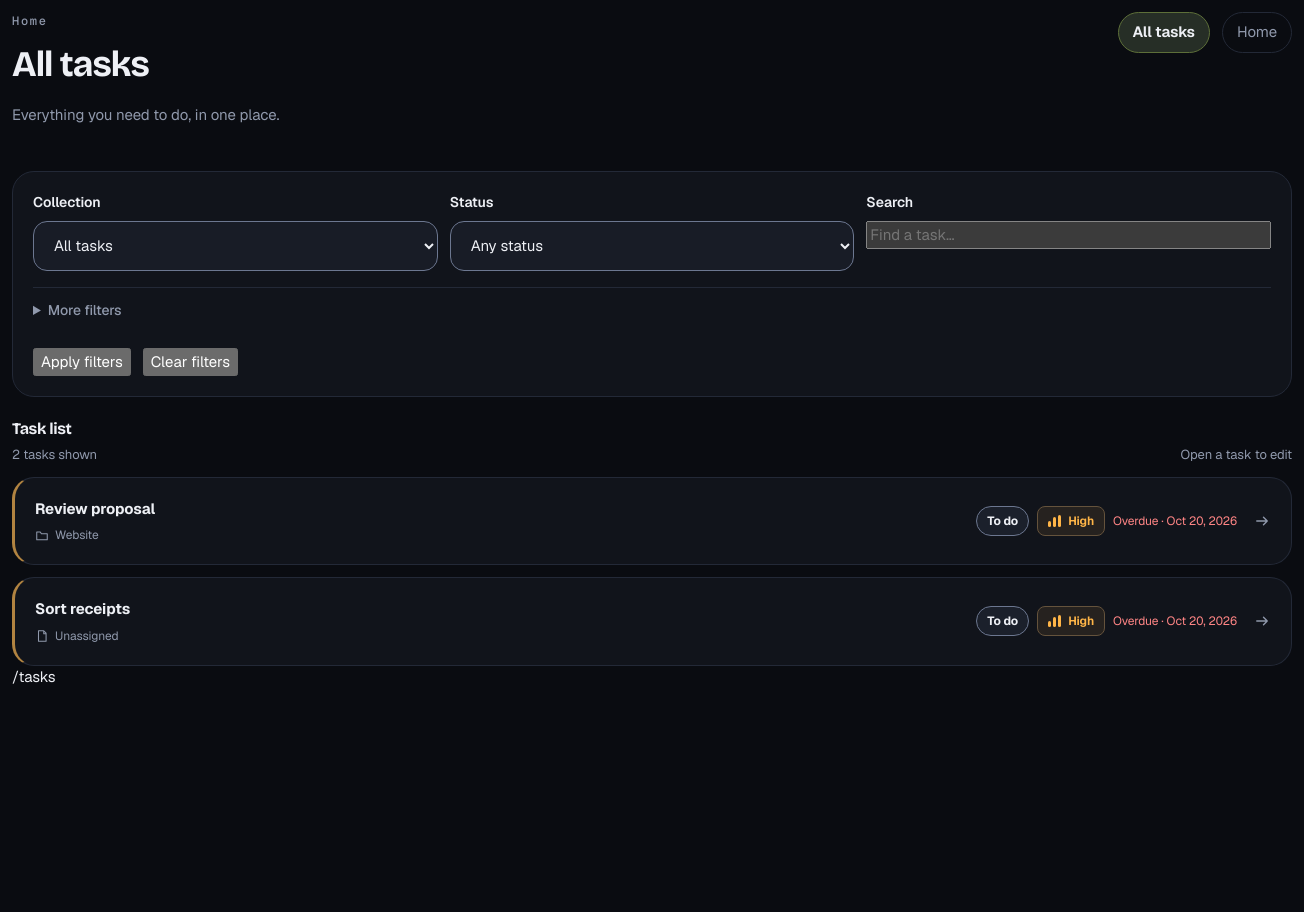
AllTasksPage › keeps unassigned tasks in All tasks and leaves Inbox available as a collection filter
This screenshot has width=1304, height=912.
Expected: the link "Sort receipts Unassigned To do High Overdue · Oct 20, 2026" is shown, [12, 577, 1292, 666]
Expected: the link "Inbox" is not shown
Select "Inbox" in the dropdown labelled "Collection" at (235, 246), box [33, 220, 438, 270]
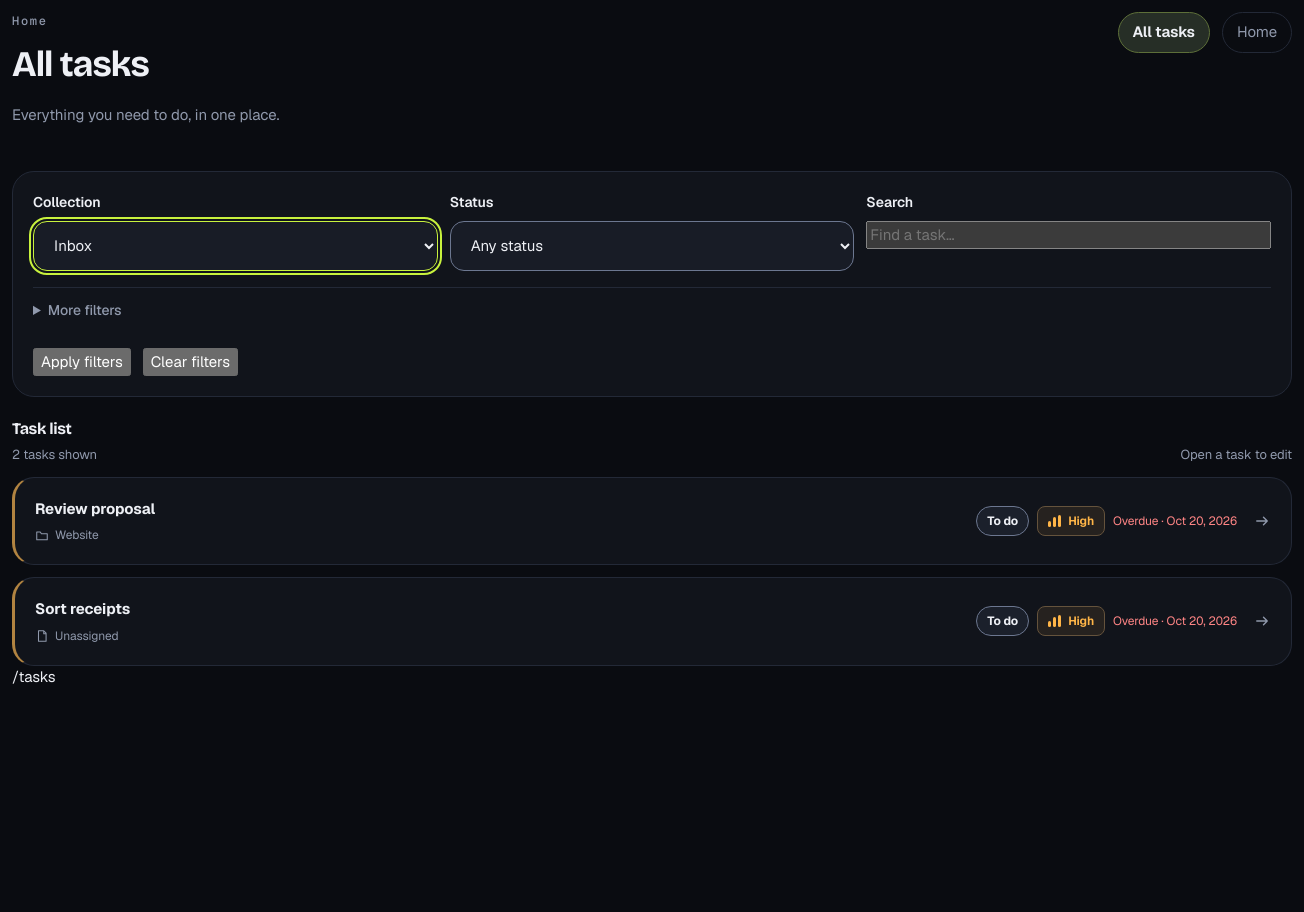
Click the button "Apply filters" at (82, 362), box [33, 348, 131, 376]
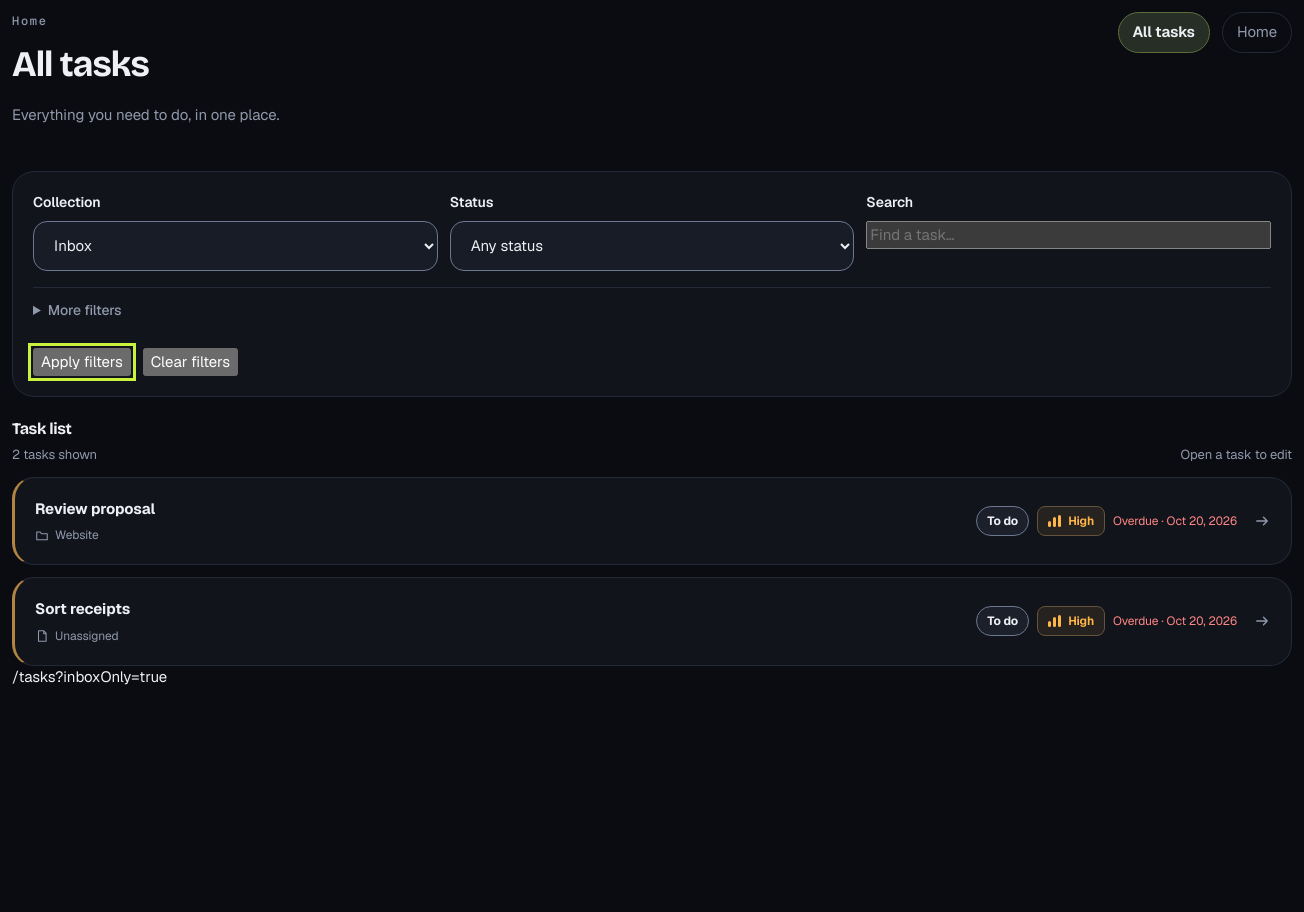
Expected: the text with test id "location" reads "/tasks?inboxOnly=true", [12, 666, 167, 686]
